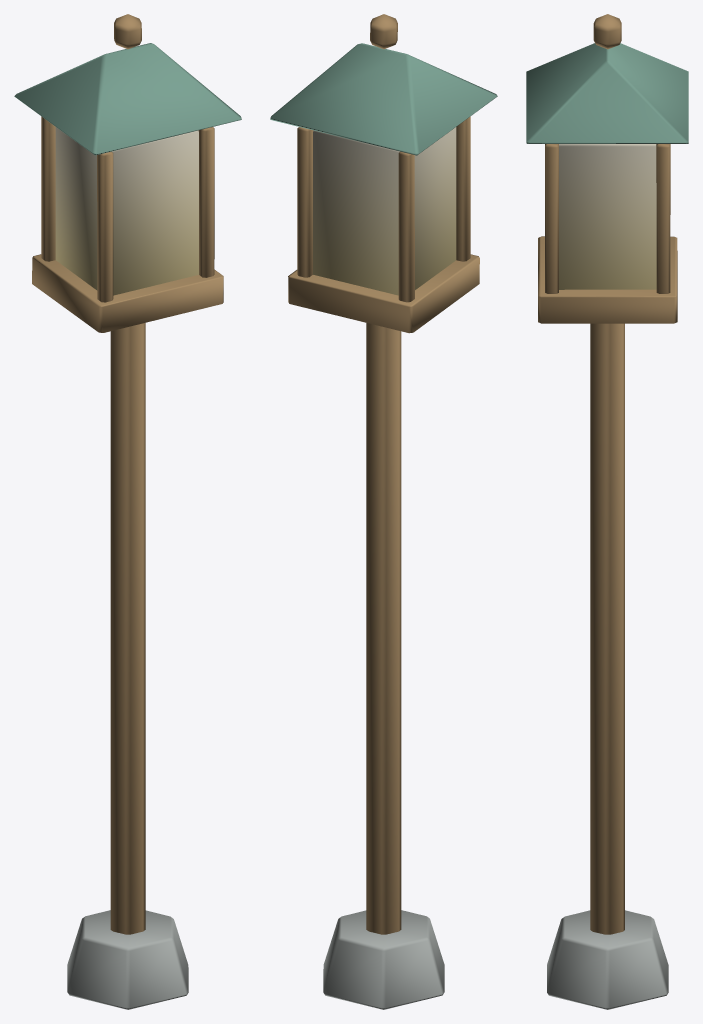
File: lamp_fixed_low.glb
3 renders of one model, left to right at view 1: azimuth 30°, elevation 25°; view 2: azimuth 150°, elevation 25°; view 3: azimuth 270°, elevation 25°, orthographic.
Bounding box in the file's own units: 0.5699 × 3.55 × 0.5401.
